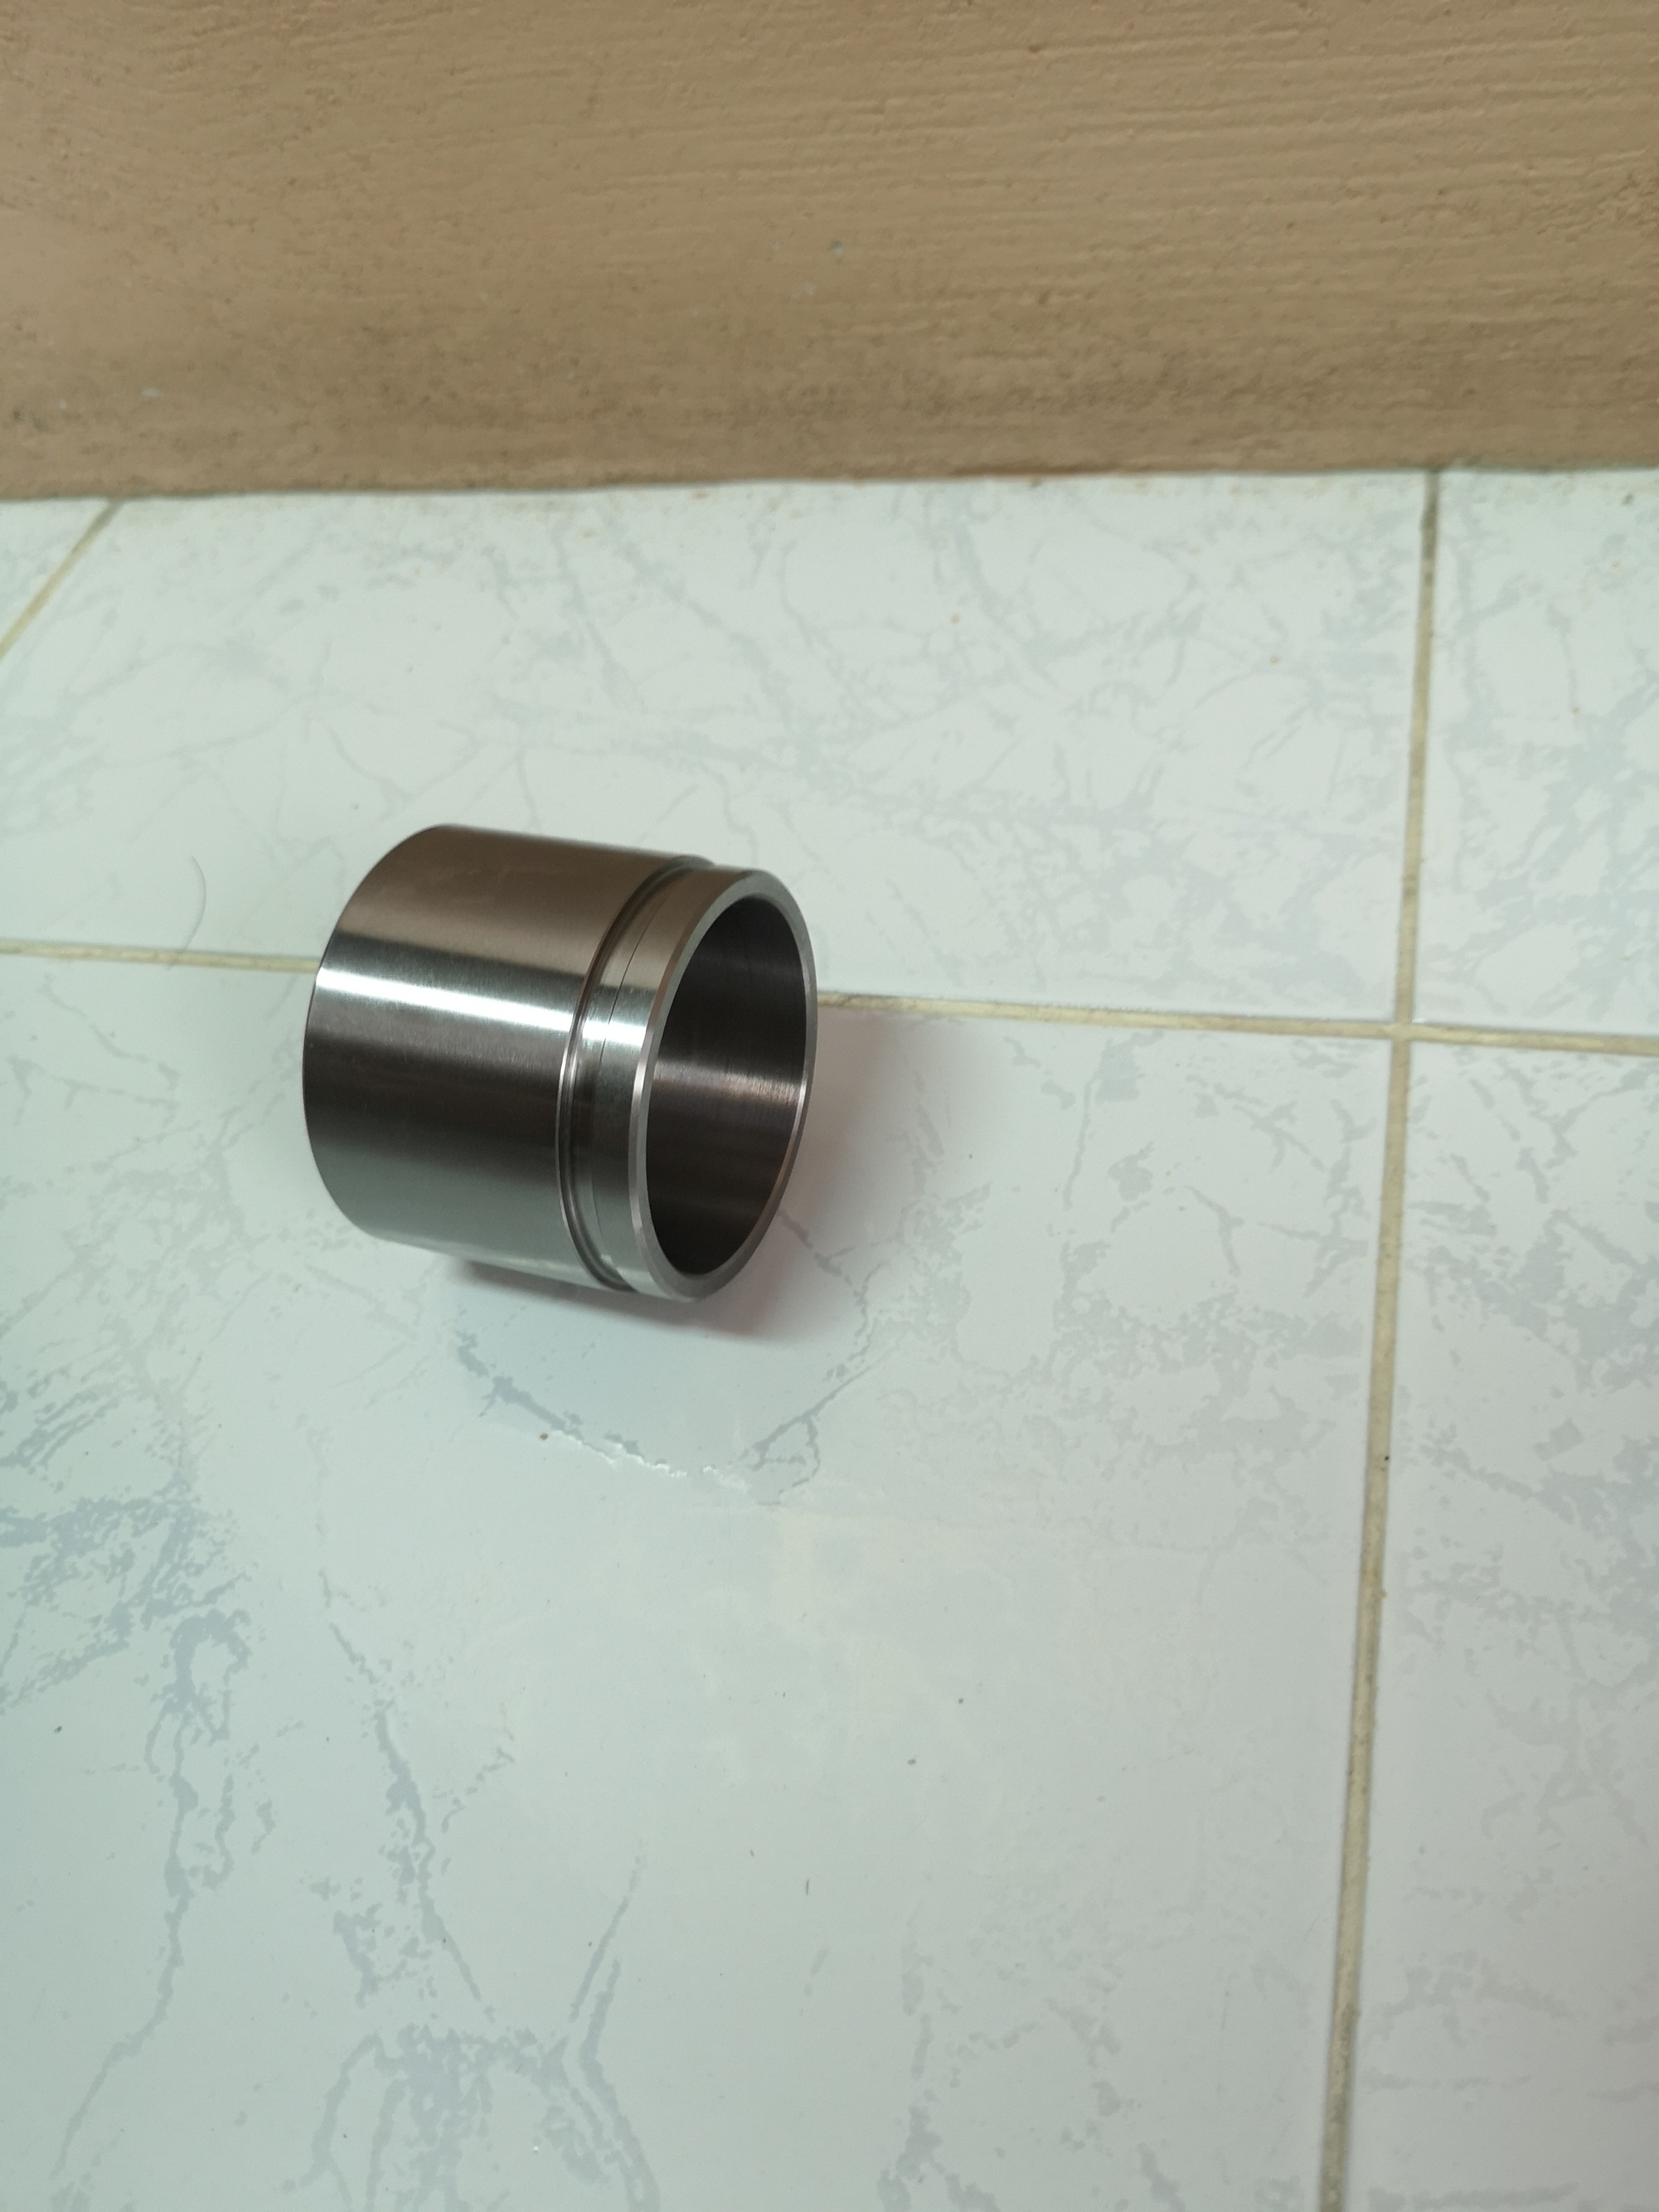ลูกสูบดิสเบรค: (251, 789, 831, 1376)
